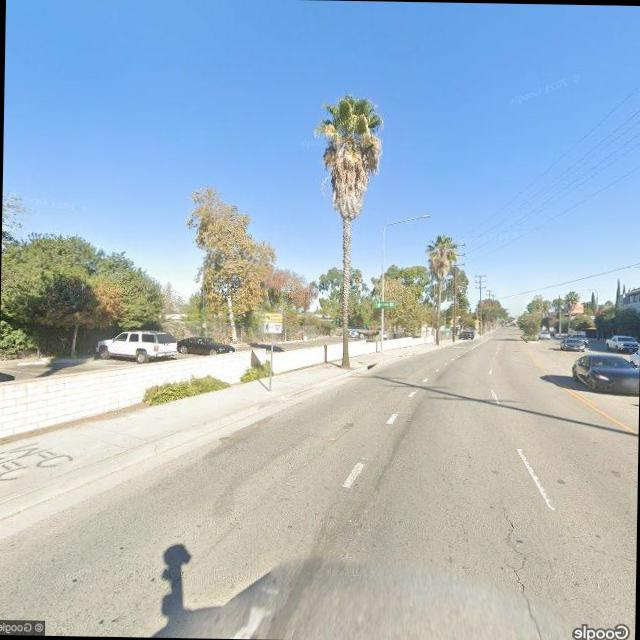crack: (495, 502, 549, 640)
